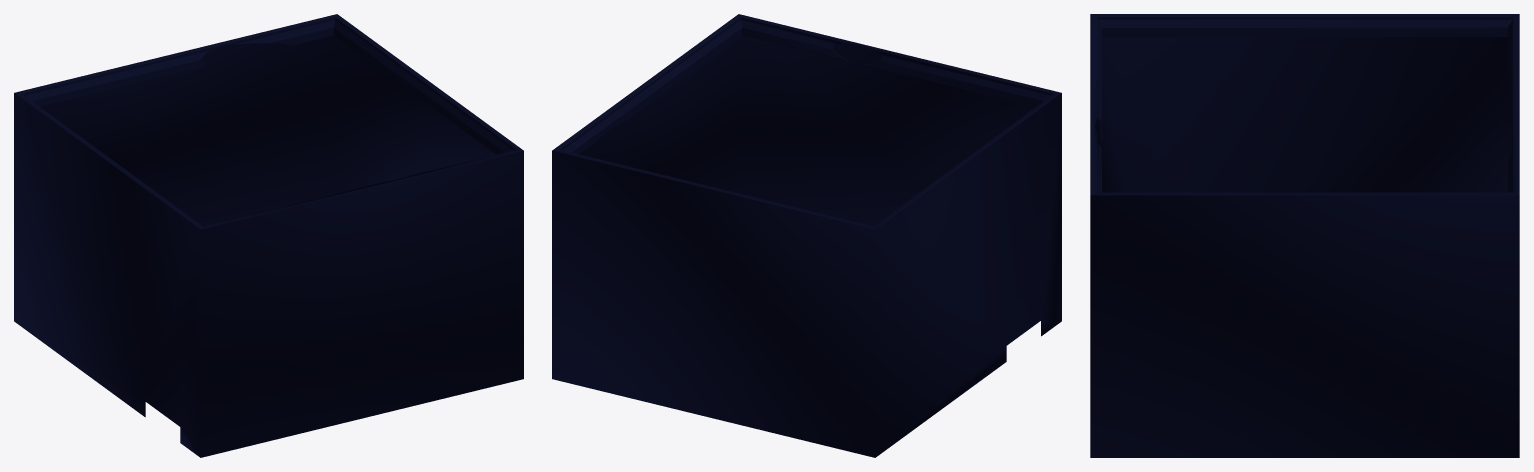
The model's file is outer-box.gltf.
3 views of the same model, side by side, from view 1: azimuth 30°, elevation 25°; view 2: azimuth 150°, elevation 25°; view 3: azimuth 270°, elevation 25° (orthographic). The views are drawn at different scales.
Parts seen in each view (by area): view 1: wall_exterior; view 2: wall_exterior; view 3: wall_exterior.
Boxes of the visible parts, x1,y1,x2,y2 form: wall_exterior: [14, 14, 523, 457]; wall_exterior: [552, 14, 1061, 457]; wall_exterior: [1090, 14, 1519, 457].
Size of what is drawn, in the model's own units: 64 by 43.25 by 64.
